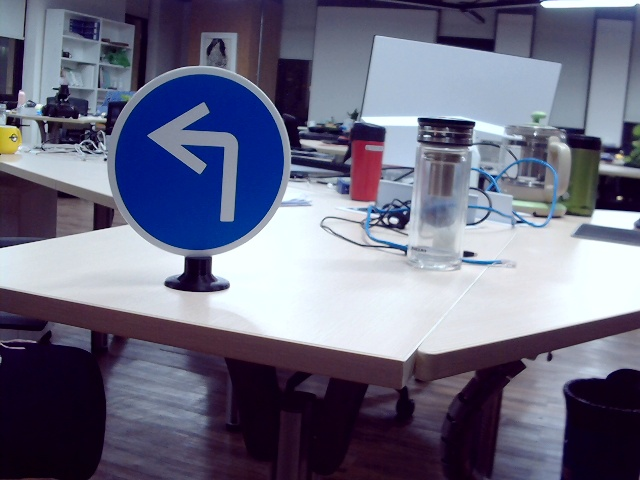turn_left: (149, 94, 247, 229)
